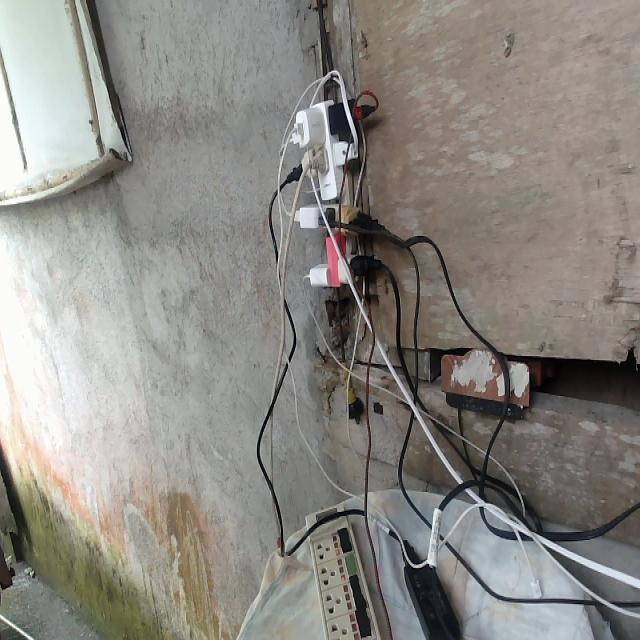-: (277, 89, 381, 288)
